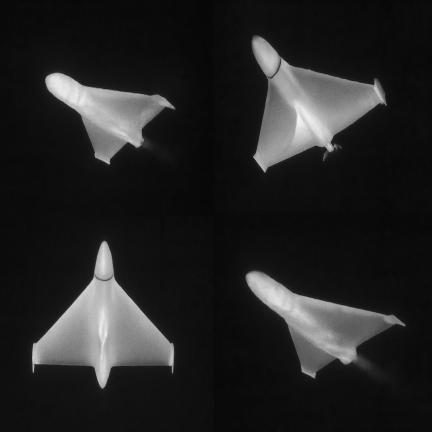Shahed: (32, 241, 174, 388), (252, 36, 386, 172), (246, 271, 404, 378), (46, 73, 174, 164)
